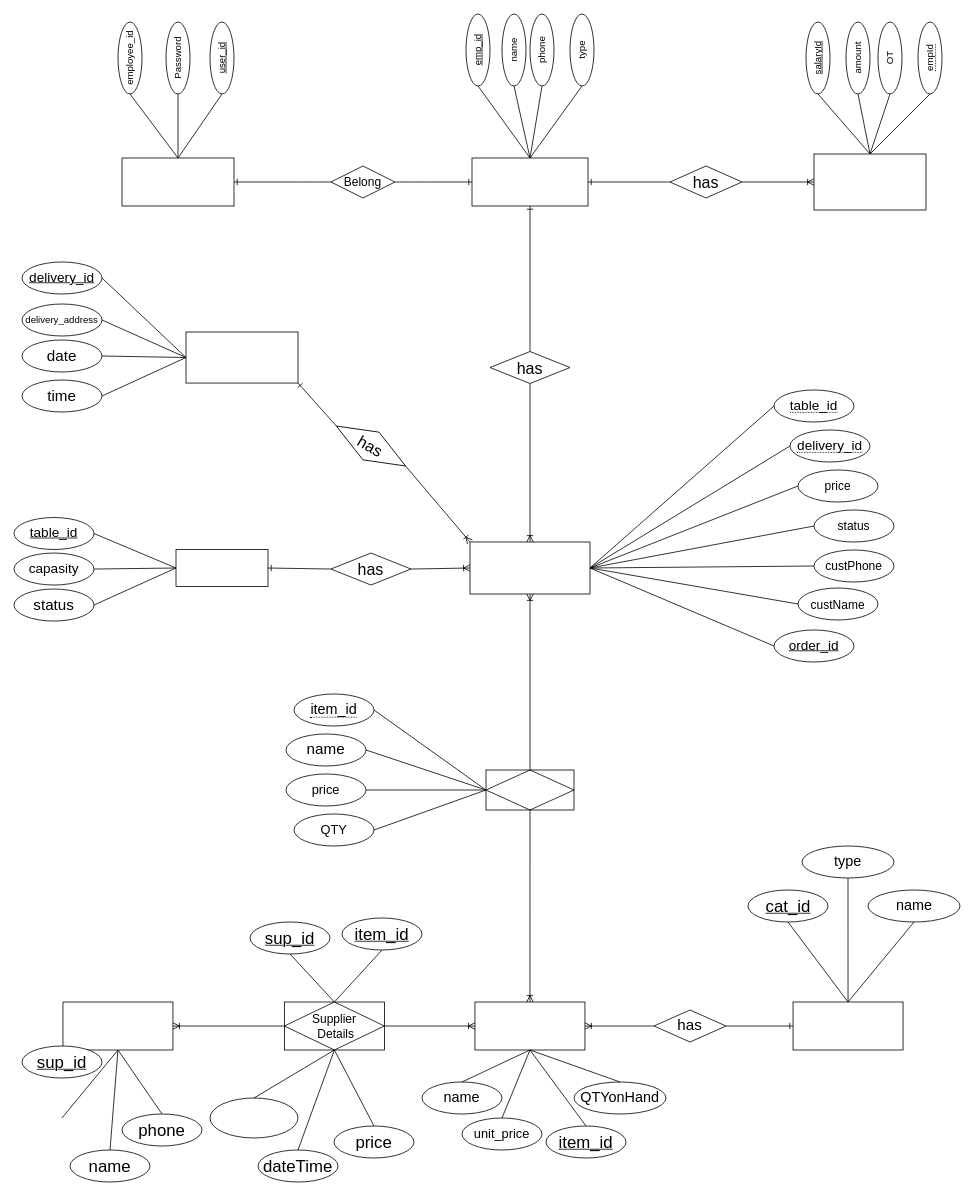
Some shapes in this 974 by 1196 pixel diagram are drawn without their labels. The shapes that lost their labels are listed below. From the top down, each one's centre as x and y in pixels, then its label:
(x=177, y=181): User
(x=529, y=181): Employee
(x=869, y=181): salary
(x=241, y=357): Delivery
(x=221, y=567): table
(x=529, y=567): Order
(x=529, y=789): Order Detail
(x=117, y=1025): supplier
(x=529, y=1025): Item
(x=847, y=1025): Category
(x=253, y=1117): payment status
